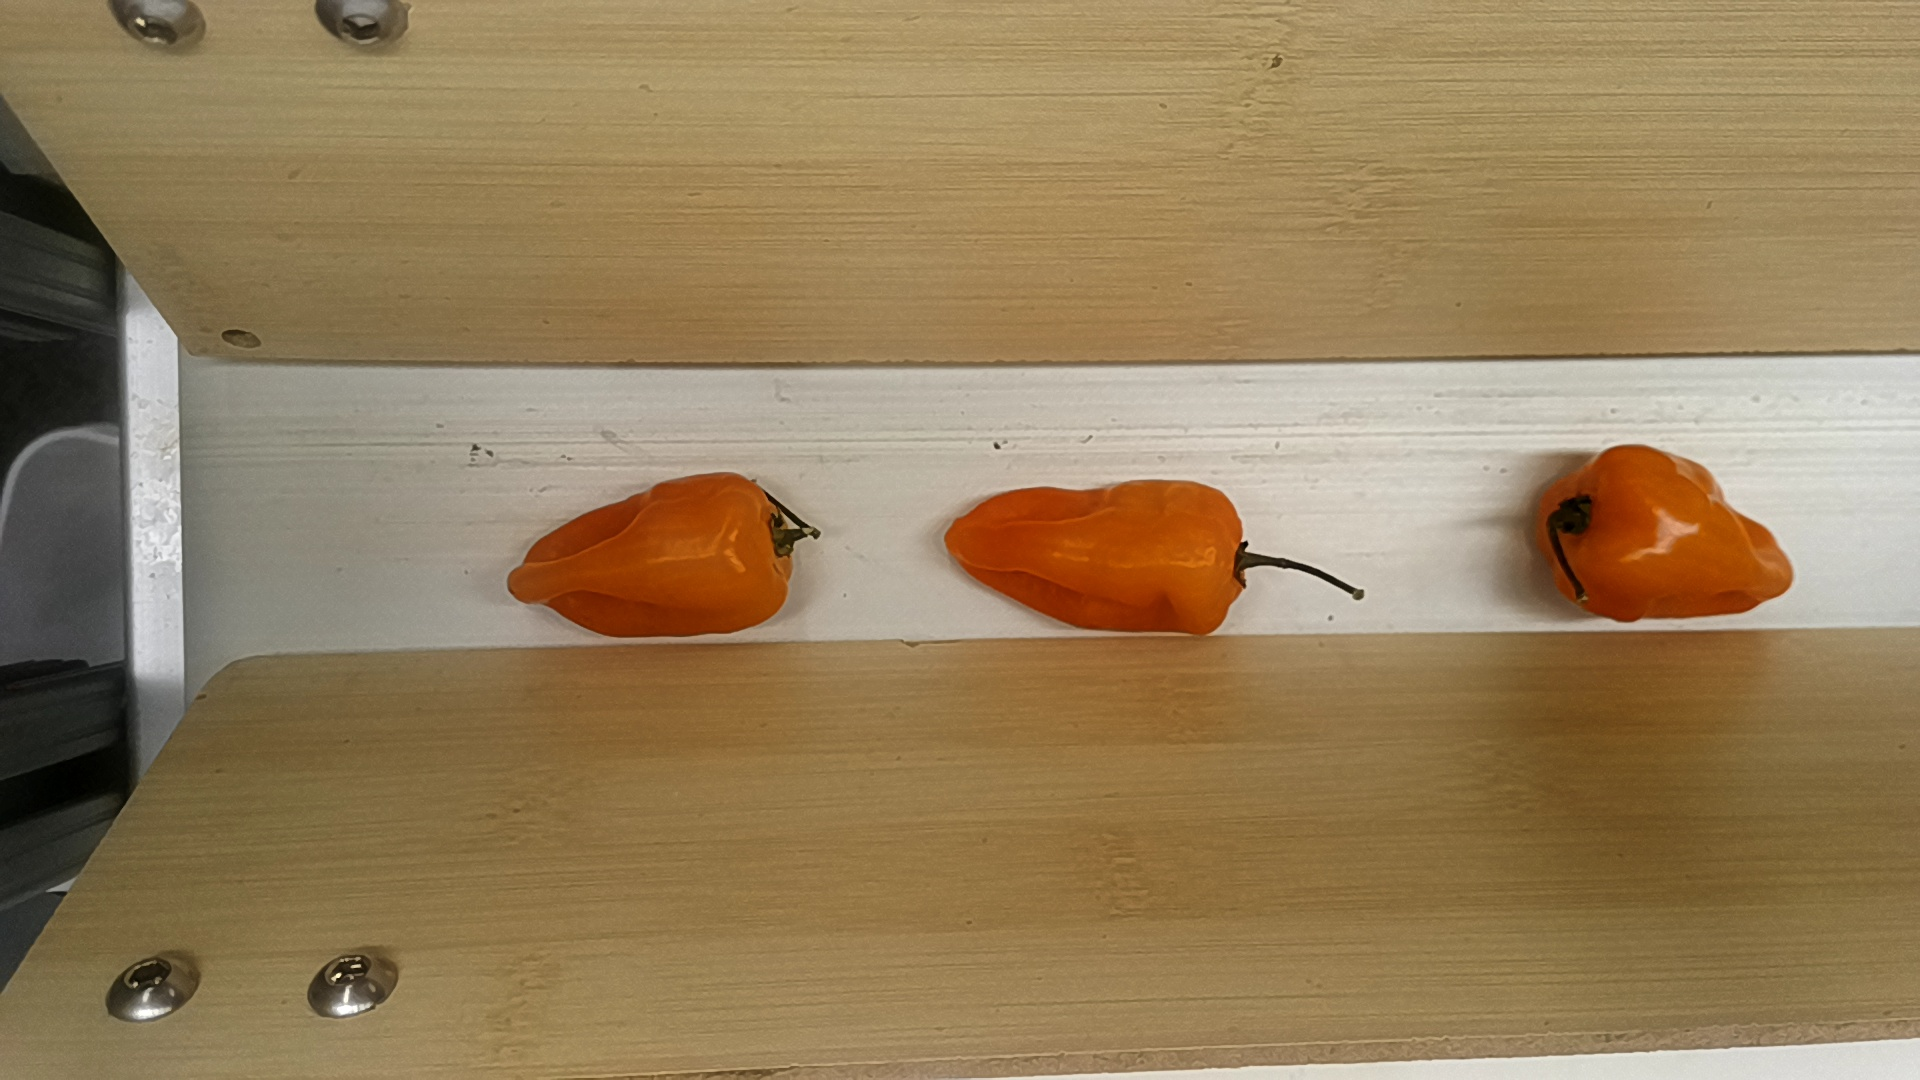Cut Point: (746, 467, 799, 625), (1565, 439, 1607, 630), (1208, 473, 1253, 637)
